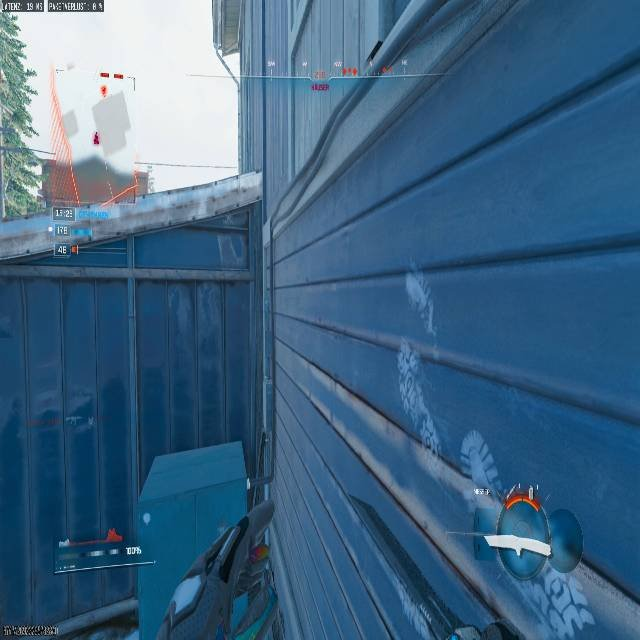head: (487, 500, 552, 576)
player: (475, 499, 601, 638)
